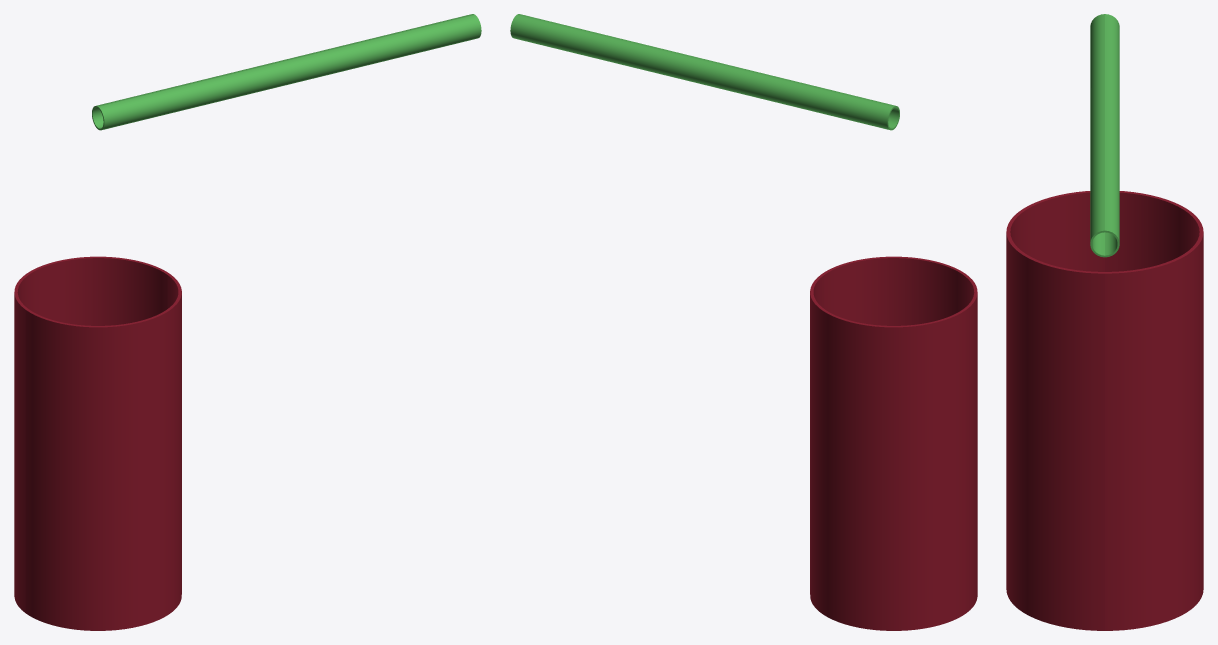
File: emergency_pressure_relief_system_pressure.glb
3 views of the same model, side by side, from view 1: azimuth 30°, elevation 25°; view 2: azimuth 150°, elevation 25°; view 3: azimuth 270°, elevation 25° (orthographic). The views are drawn at different scales.
Visible parts, largest first — view 1: pressure__front, pressure__back; view 2: pressure__back, pressure__front; view 3: pressure__back, pressure__front.
Boxes of the visible parts, left/top/right/bottom form: pressure__front: left=25, top=15, right=481, bottom=630; pressure__back: left=14, top=14, right=474, bottom=612; pressure__back: left=510, top=15, right=966, bottom=630; pressure__front: left=517, top=14, right=977, bottom=612; pressure__back: left=1105, top=14, right=1203, bottom=630; pressure__front: left=1006, top=14, right=1104, bottom=630.
Bounding box in the file's own units: 3.1 × 3.22 × 1.
